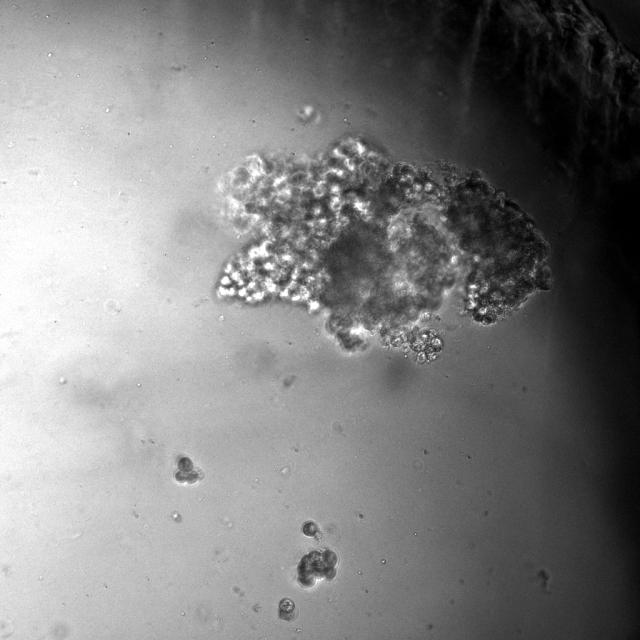organoid: (214, 135, 552, 364), (297, 549, 337, 587), (174, 455, 202, 485), (279, 597, 297, 621), (302, 520, 319, 537)
